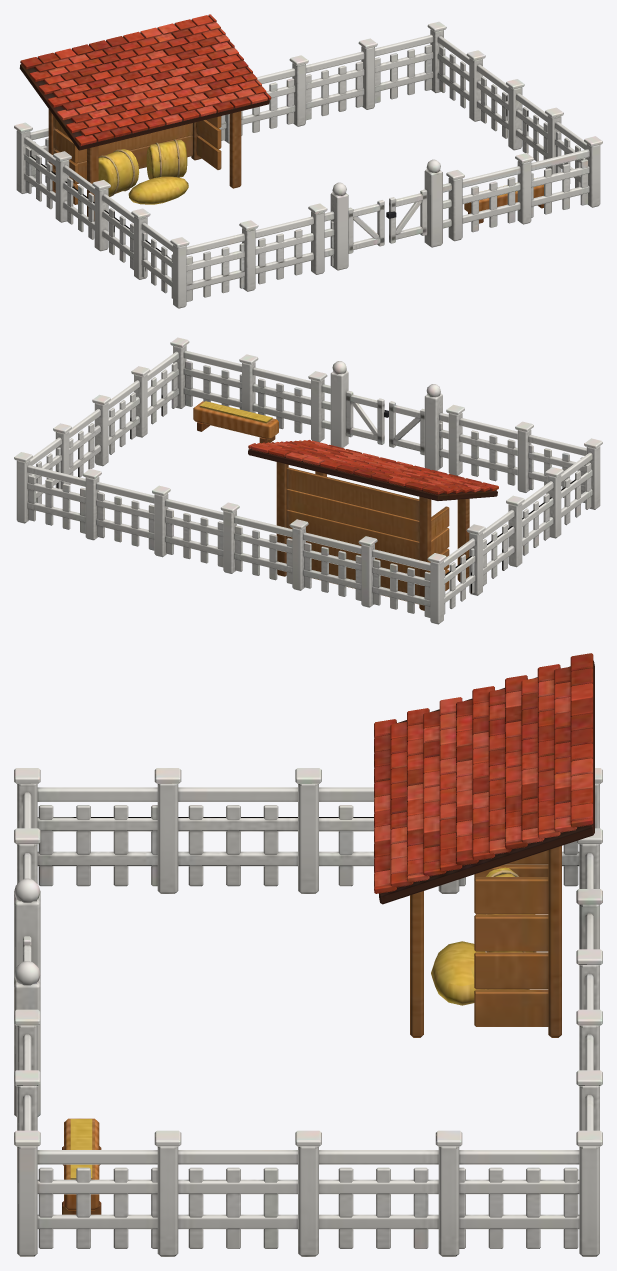
File: charolais_pasture.glb
The picture shows the model from 3 angles, top to bottom: view 1: azimuth 30°, elevation 25°; view 2: azimuth 150°, elevation 25°; view 3: azimuth 270°, elevation 25°; orthographic projection. The views are drawn at different scales.
Visible parts, largest first — view 1: charolais_pasture, gate1, gate0; view 2: charolais_pasture, gate1, gate0; view 3: charolais_pasture.
Part boxes in pixels (bbox=[...]): charolais_pasture: bbox=[14, 14, 602, 308]; gate1: bbox=[386, 189, 427, 243]; gate0: bbox=[348, 200, 384, 253]; charolais_pasture: bbox=[14, 337, 602, 624]; gate1: bbox=[346, 390, 388, 444]; gate0: bbox=[389, 401, 424, 455]; charolais_pasture: bbox=[14, 653, 602, 1256].
Size of the model in its own units: 2.99 by 0.9342 by 1.99.
Materials: 1 (1 with a texture image).
